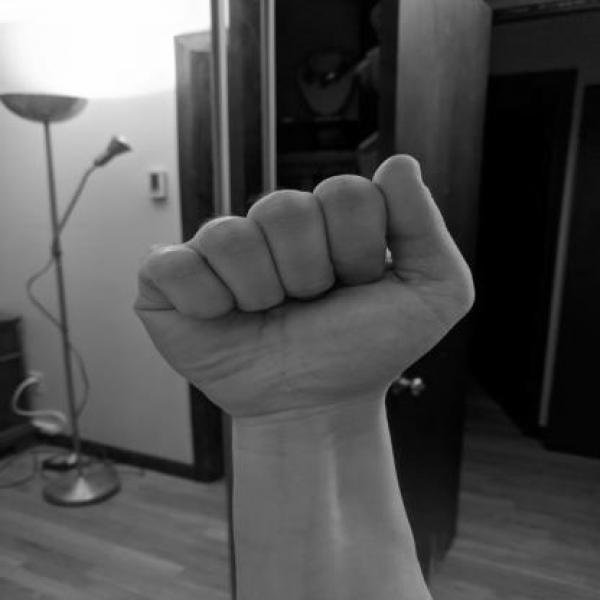A: (123, 147, 484, 434)
